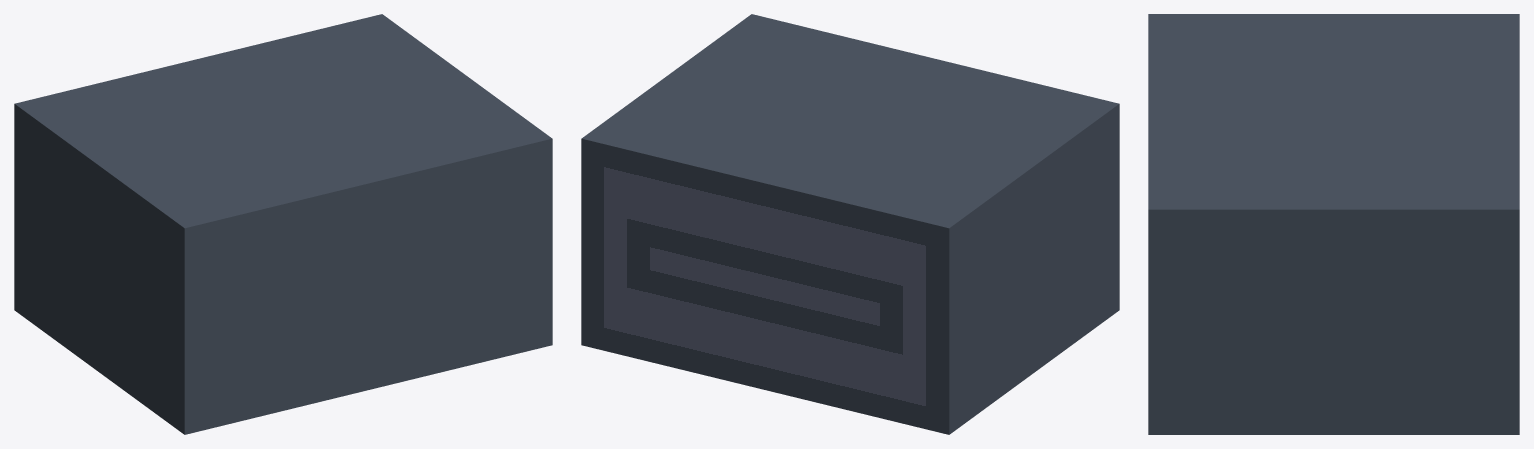
The model's file is blend_box_object.glb.
3 views of the same model, side by side, from view 1: azimuth 30°, elevation 25°; view 2: azimuth 150°, elevation 25°; view 3: azimuth 270°, elevation 25° (orthographic). The views are drawn at different scales.
Parts seen in each view (by area): view 1: Cube; view 2: Cube; view 3: Cube.
Boxes of the visible parts, x1=… form: Cube: x1=14, y1=14, x2=552, y2=434; Cube: x1=581, y1=14, x2=1119, y2=434; Cube: x1=1148, y1=14, x2=1519, y2=434.
Size of the model in its own units: 0.0977 by 0.0524 by 0.0783.
Materials: 1 (1 with a texture image).
